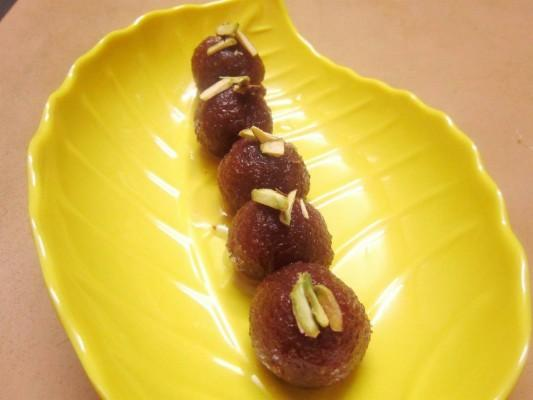GulabJamun: (249, 264, 370, 390), (226, 189, 333, 283), (220, 127, 310, 216), (194, 75, 273, 156), (192, 24, 263, 89)
